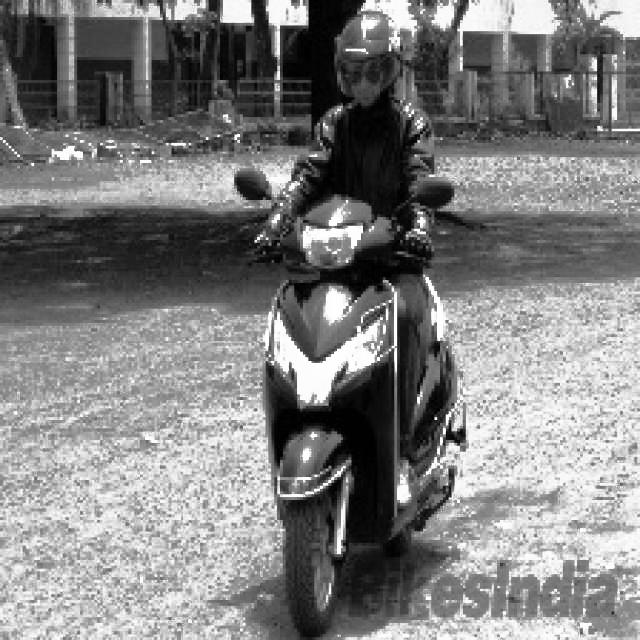Bike: (228, 162, 472, 638)
